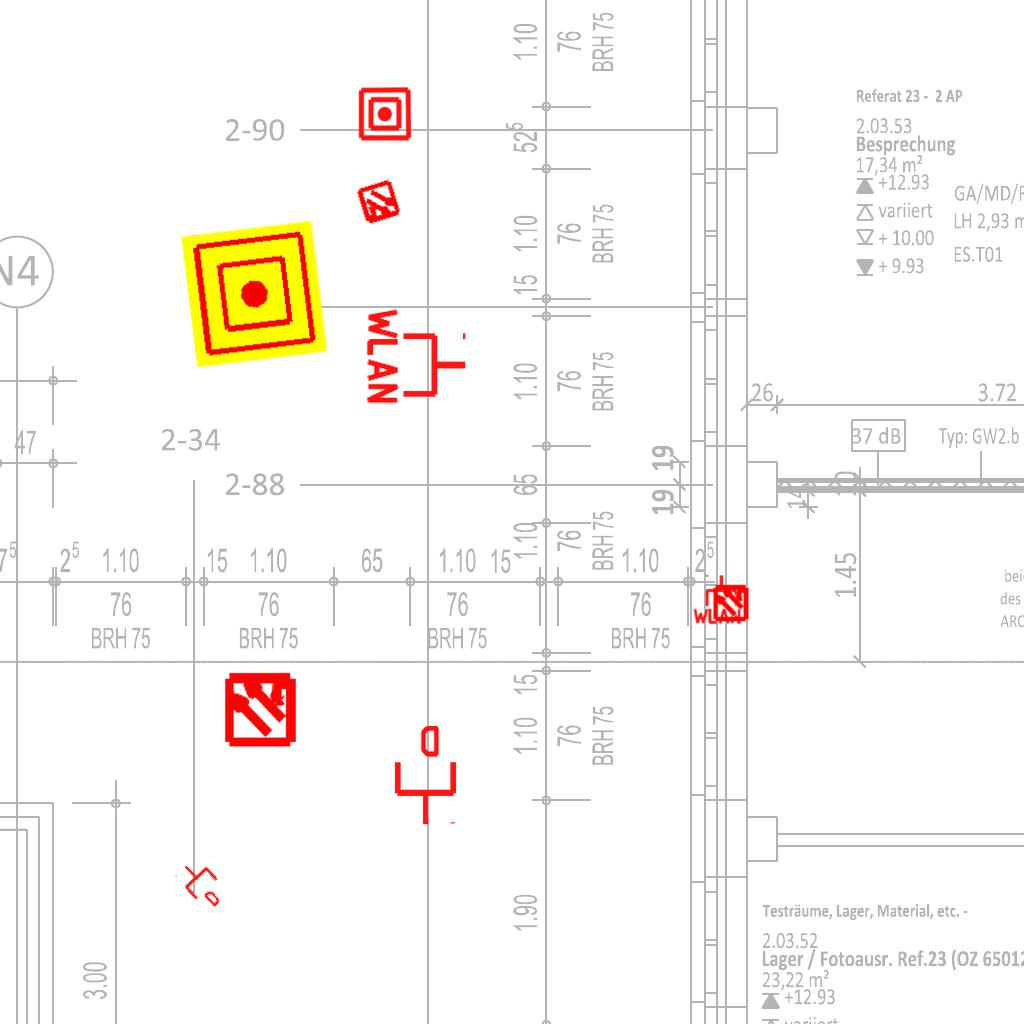Datenanschluss_einfach: (391, 726, 460, 826), (172, 854, 232, 914)
NAM-Nichtautomatischer_Melder: (180, 220, 328, 368), (357, 86, 413, 142)
OT_Multisensormelder_(Kombination_RMO_WMD): (204, 651, 317, 764), (344, 168, 414, 238), (703, 574, 759, 630)
WLAN: (365, 304, 470, 408), (691, 573, 743, 625)
